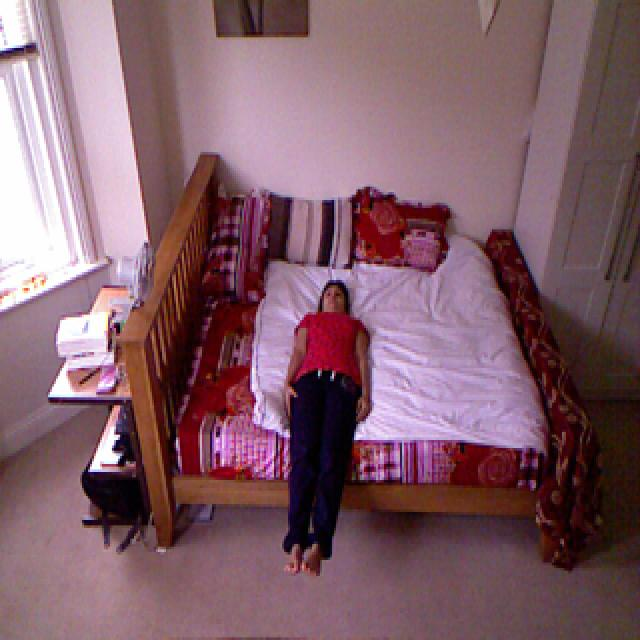lying: (281, 275, 374, 580)
